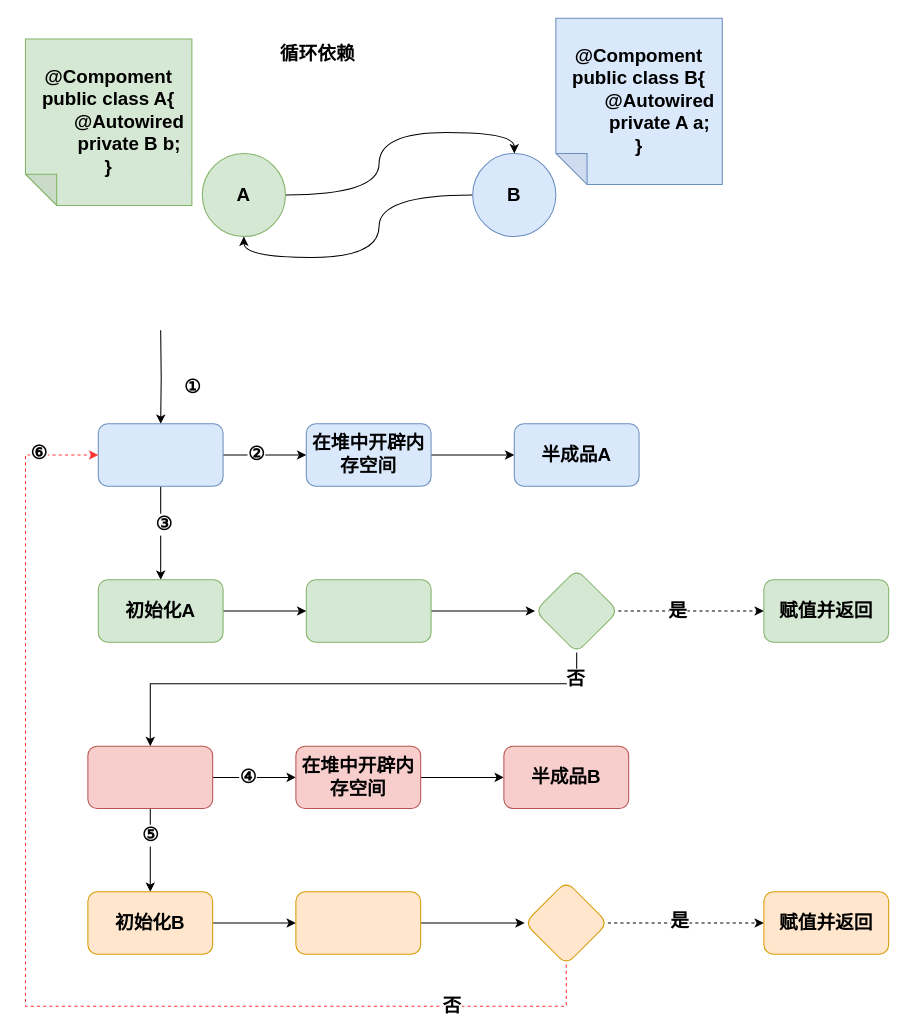
This 907x1035 diagram has some shape labels left out. The centre of each missing label's shape, as x and y in pixels:
实例化A: [160,454]
实例化B: [150,777]
容器中是否存在A对象: [566,922]
容器中是否存在B对象: [576,610]
设置a属性,a是A类型的对象，要到Spring容器去查找: [358,922]
设置b属性,b是B类型的对象，要到Spring容器去查找: [368,610]
